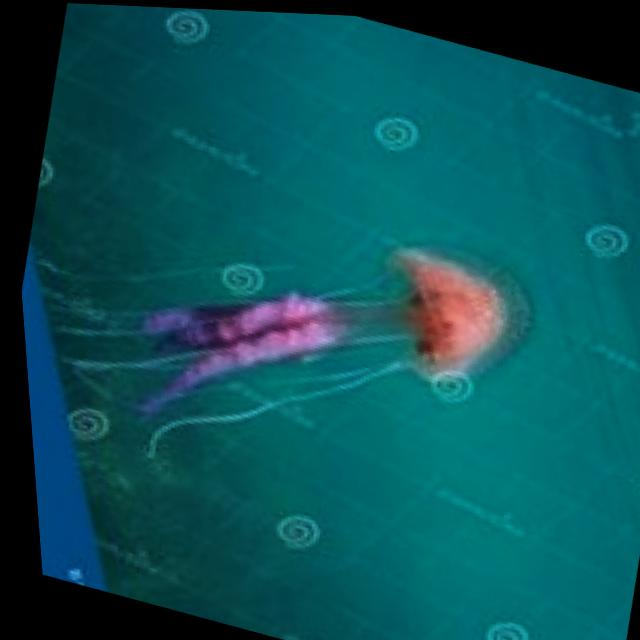Box-jellyfish: (27, 148, 556, 553)
